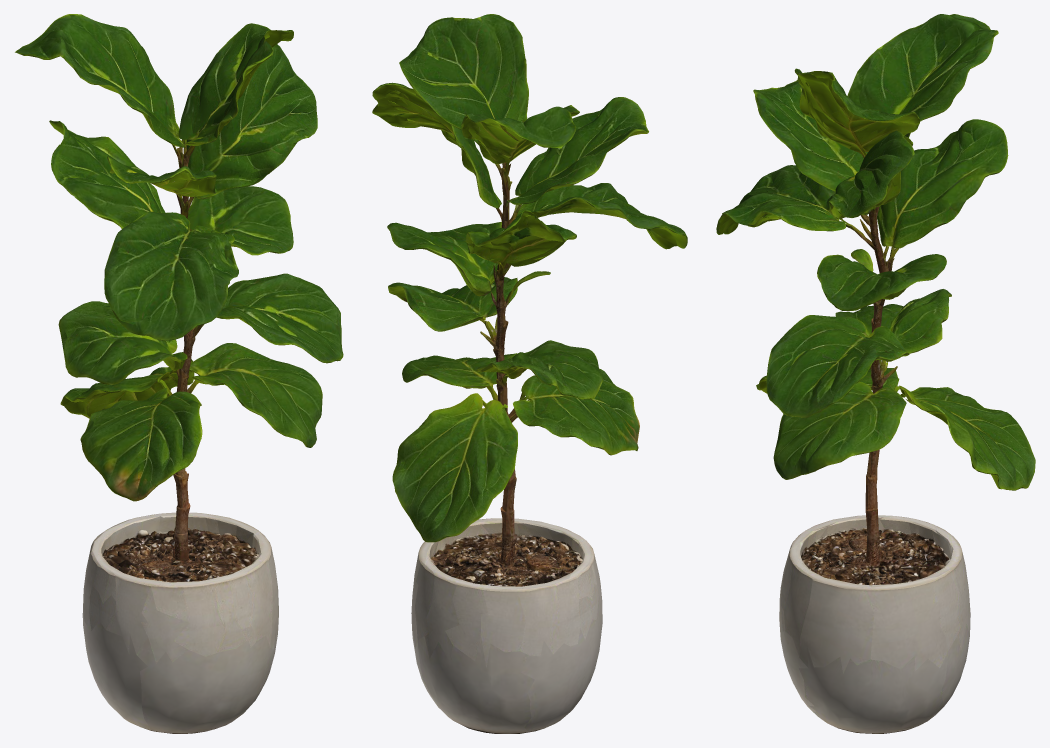
The model's file is w51fig.glb.
3 views of the same model, side by side, from view 1: azimuth 30°, elevation 25°; view 2: azimuth 150°, elevation 25°; view 3: azimuth 270°, elevation 25° (orthographic). The views are drawn at different scales.
Visible parts, largest first — view 1: output_unwrapped; view 2: output_unwrapped; view 3: output_unwrapped.
Part boxes in pixels (bbox=[...]): output_unwrapped: bbox=[15, 14, 343, 733]; output_unwrapped: bbox=[372, 14, 687, 733]; output_unwrapped: bbox=[716, 14, 1035, 733].
Size of the model in its own units: 0.6137 by 1.5 by 0.6481.
Materials: 1 (1 with a texture image).
